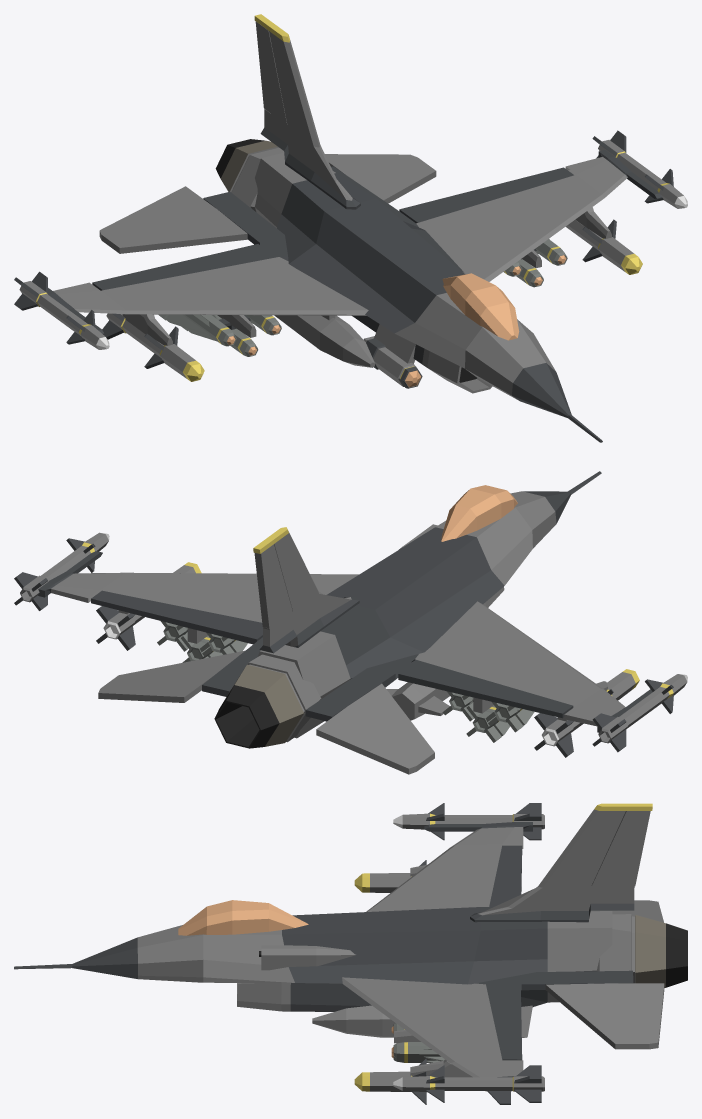
The model's file is jet2.glb.
3 renders of one model, top to bottom at view 1: azimuth 30°, elevation 25°; view 2: azimuth 150°, elevation 25°; view 3: azimuth 270°, elevation 25°, orthographic. The views are drawn at different scales.
Parts seen in each view (by area): view 1: Cylinder.001_LightGrey_0, Cylinder.001_Grey_0, Cylinder.001_LightGrey_0.001, Cylinder.001_Material.001_0, Cylinder.001_LightGrey_0.002, Cylinder.001_Green_0, Cylinder.001_Grey_0.001, Cylinder.001_Grey_0.002, Cylinder.001_Yellow_0, Cylinder.001_Material_0; view 2: Cylinder.001_LightGrey_0, Cylinder.001_Grey_0, Cylinder.001_LightGrey_0.001, Cylinder.001_LightGrey_0.002, Cylinder.001_Green_0, Cylinder.001_Grey_0.002, Cylinder.001_Grey_0.001, Cylinder.001_Black_0, Cylinder.001_Material.001_0, Cylinder.001_Material_0, Cylinder.001_Yellow_0, Cylinder.001_Material.002_0; view 3: Cylinder.001_LightGrey_0, Cylinder.001_Grey_0, Cylinder.001_LightGrey_0.002, Cylinder.001_Material.001_0, Cylinder.001_Grey_0.001, Cylinder.001_Material_0, Cylinder.001_Grey_0.002, Cylinder.001_Black_0, Cylinder.001_Yellow_0, Cylinder.001_Green_0, Cylinder.001_LightGrey_0.001.
Part boxes in pixels (x1,y1,x2,y2): Cylinder.001_LightGrey_0: [19, 21, 683, 400]; Cylinder.001_Grey_0: [14, 127, 673, 442]; Cylinder.001_LightGrey_0.001: [99, 186, 247, 253]; Cylinder.001_Material.001_0: [227, 255, 566, 387]; Cylinder.001_LightGrey_0.002: [325, 154, 436, 203]; Cylinder.001_Green_0: [158, 239, 567, 356]; Cylinder.001_Grey_0.001: [399, 167, 573, 223]; Cylinder.001_Grey_0.002: [92, 244, 276, 290]; Cylinder.001_Yellow_0: [36, 14, 669, 381]; Cylinder.001_Material_0: [220, 140, 277, 191]; Cylinder.001_LightGrey_0: [20, 491, 687, 745]; Cylinder.001_Grey_0: [14, 471, 673, 757]; Cylinder.001_LightGrey_0.001: [316, 683, 434, 774]; Cylinder.001_LightGrey_0.002: [98, 650, 244, 702]; Cylinder.001_Green_0: [157, 621, 534, 742]; Cylinder.001_Grey_0.002: [398, 660, 573, 718]; Cylinder.001_Grey_0.001: [91, 590, 262, 644]; Cylinder.001_Black_0: [214, 685, 279, 748]; Cylinder.001_Material.001_0: [441, 485, 517, 541]; Cylinder.001_Material_0: [223, 664, 303, 746]; Cylinder.001_Yellow_0: [82, 527, 673, 721]; Cylinder.001_Material.002_0: [101, 533, 687, 746]; Cylinder.001_LightGrey_0: [137, 809, 650, 1092]; Cylinder.001_Grey_0: [14, 803, 634, 1104]; Cylinder.001_LightGrey_0.002: [545, 983, 664, 1049]; Cylinder.001_Material.001_0: [178, 900, 393, 1058]; Cylinder.001_Grey_0.001: [486, 985, 522, 1060]; Cylinder.001_Material_0: [635, 915, 665, 987]; Cylinder.001_Grey_0.002: [489, 845, 522, 907]; Cylinder.001_Black_0: [259, 923, 687, 987]; Cylinder.001_Yellow_0: [354, 803, 652, 1091]; Cylinder.001_Green_0: [393, 1023, 444, 1063]; Cylinder.001_LightGrey_0.001: [612, 900, 663, 922].
Size of the model in its own units: 13.78 by 5.25 by 14.28.
